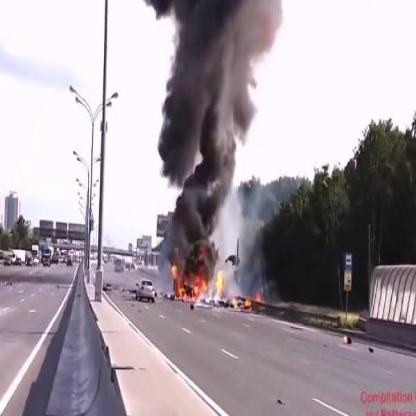fire: (168, 258, 225, 308), (230, 288, 263, 310)
